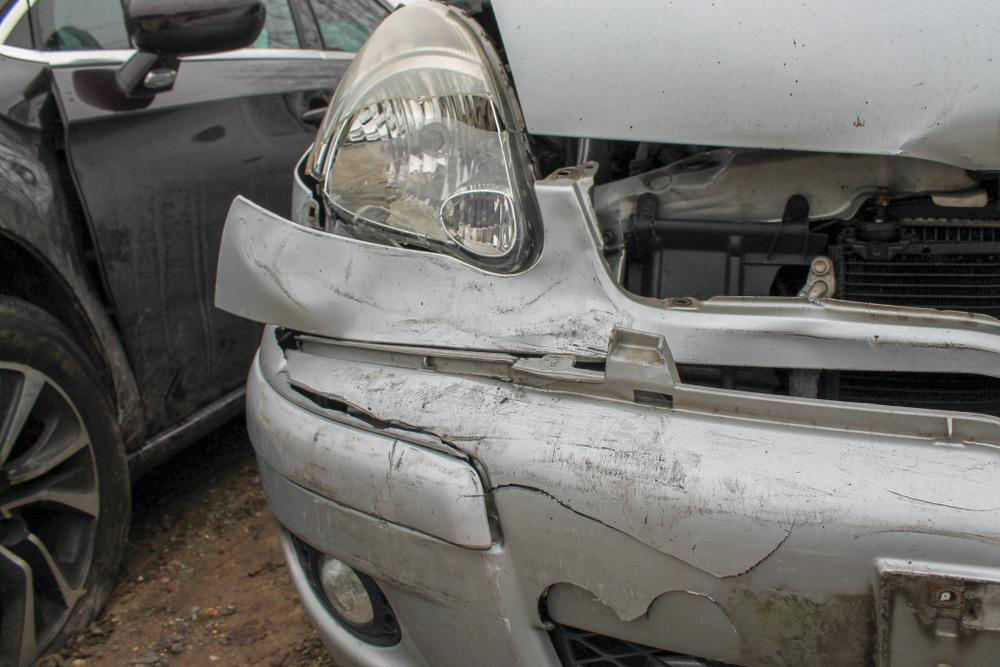crack: (492, 482, 797, 580), (272, 325, 468, 458), (536, 581, 737, 636)
dent: (239, 212, 623, 354)
lamp broken: (309, 0, 538, 267)
scratch: (351, 363, 846, 532), (265, 421, 479, 597)
